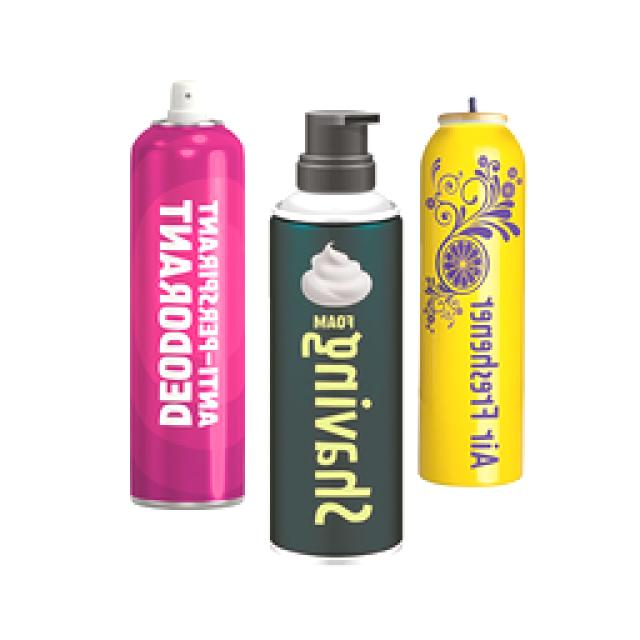B3: (274, 114, 404, 558), (133, 84, 246, 508), (419, 102, 522, 492)
